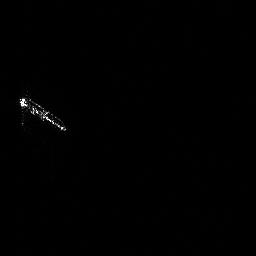ship: (16, 96, 69, 133)
